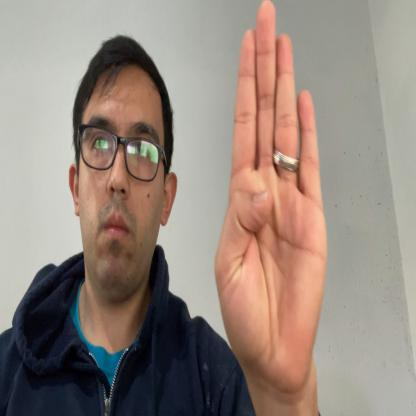B: (213, 0, 330, 397)
